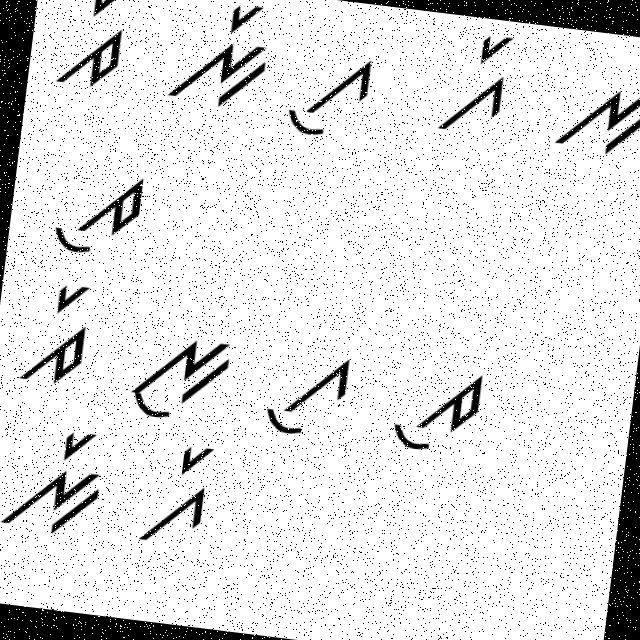gar: (138, 436, 224, 562), (438, 28, 526, 142)
gaw: (250, 332, 358, 446), (280, 38, 382, 150)
nga: (532, 66, 639, 175)
ngar: (0, 409, 115, 554), (157, 0, 278, 118)
ngaw: (120, 318, 242, 430)
tar: (10, 268, 104, 402), (42, 0, 133, 105)
taw: (37, 155, 167, 268), (382, 351, 492, 468)
